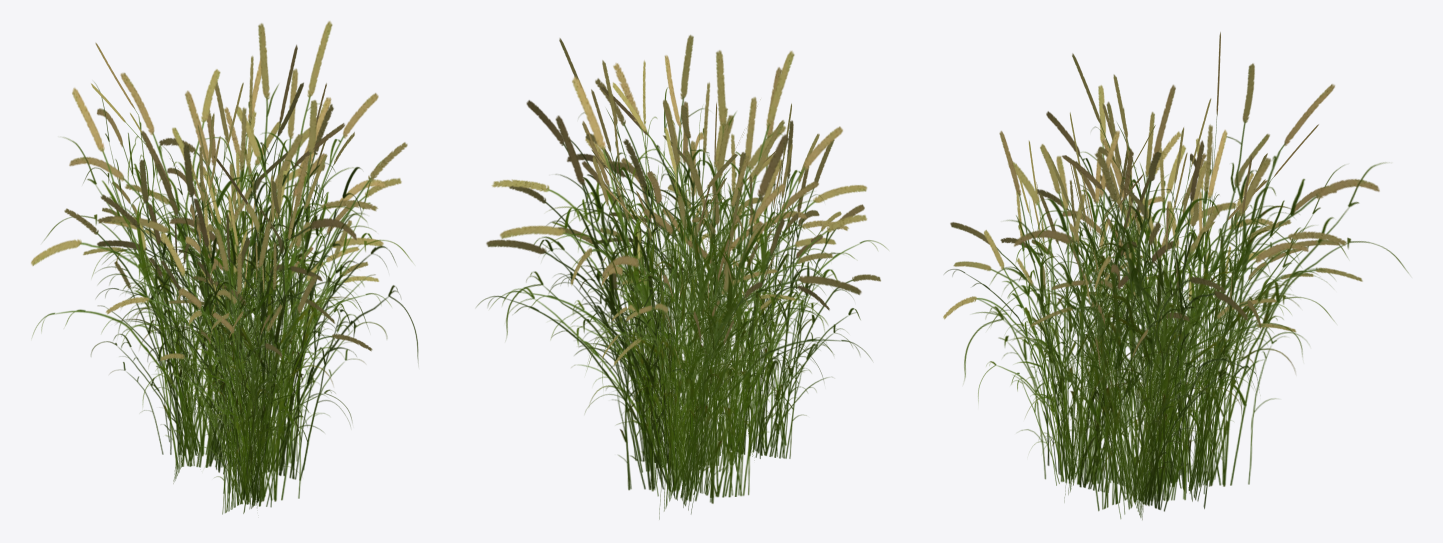
The model's file is ornamental-grass-clump.glb.
The picture shows the model from 3 angles, left to right: view 1: azimuth 30°, elevation 25°; view 2: azimuth 150°, elevation 25°; view 3: azimuth 270°, elevation 25°; orthographic projection. The views are drawn at different scales.
Parts seen in each view (by area): view 1: Grass tall high.002_Tall_grass_Mat_0, Grass tall high.001_Tall_grass_Mat_0, Grass tall high_Tall_grass_Mat_0; view 2: Grass tall high.002_Tall_grass_Mat_0, Grass tall high_Tall_grass_Mat_0, Grass tall high.001_Tall_grass_Mat_0; view 3: Grass tall high_Tall_grass_Mat_0, Grass tall high.002_Tall_grass_Mat_0, Grass tall high.001_Tall_grass_Mat_0.
Boxes of the visible parts, <box> form: Grass tall high.002_Tall_grass_Mat_0: <box>31,42,391,483</box>; Grass tall high.001_Tall_grass_Mat_0: <box>98,90,412,514</box>; Grass tall high_Tall_grass_Mat_0: <box>96,21,418,481</box>; Grass tall high.002_Tall_grass_Mat_0: <box>476,50,872,519</box>; Grass tall high_Tall_grass_Mat_0: <box>491,35,848,484</box>; Grass tall high.001_Tall_grass_Mat_0: <box>553,67,886,471</box>; Grass tall high_Tall_grass_Mat_0: <box>964,98,1347,519</box>; Grass tall high.002_Tall_grass_Mat_0: <box>989,32,1408,508</box>; Grass tall high.001_Tall_grass_Mat_0: <box>943,84,1236,502</box>.
Bounding box in the file's own units: 0.9511 × 0.996 × 1.03.
1 material, 1 textured.
